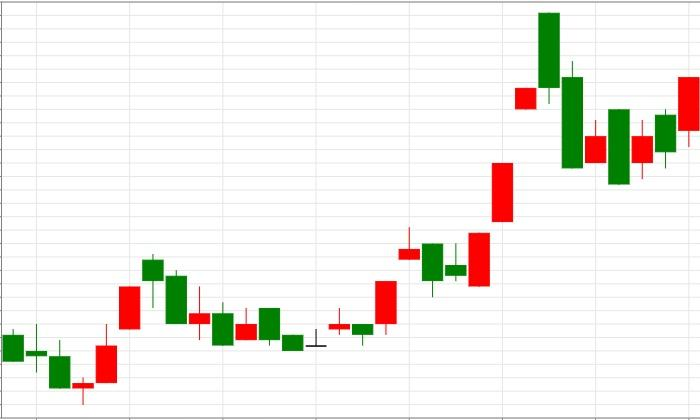three_white_soldiers_rise: (1, 286, 141, 405)
